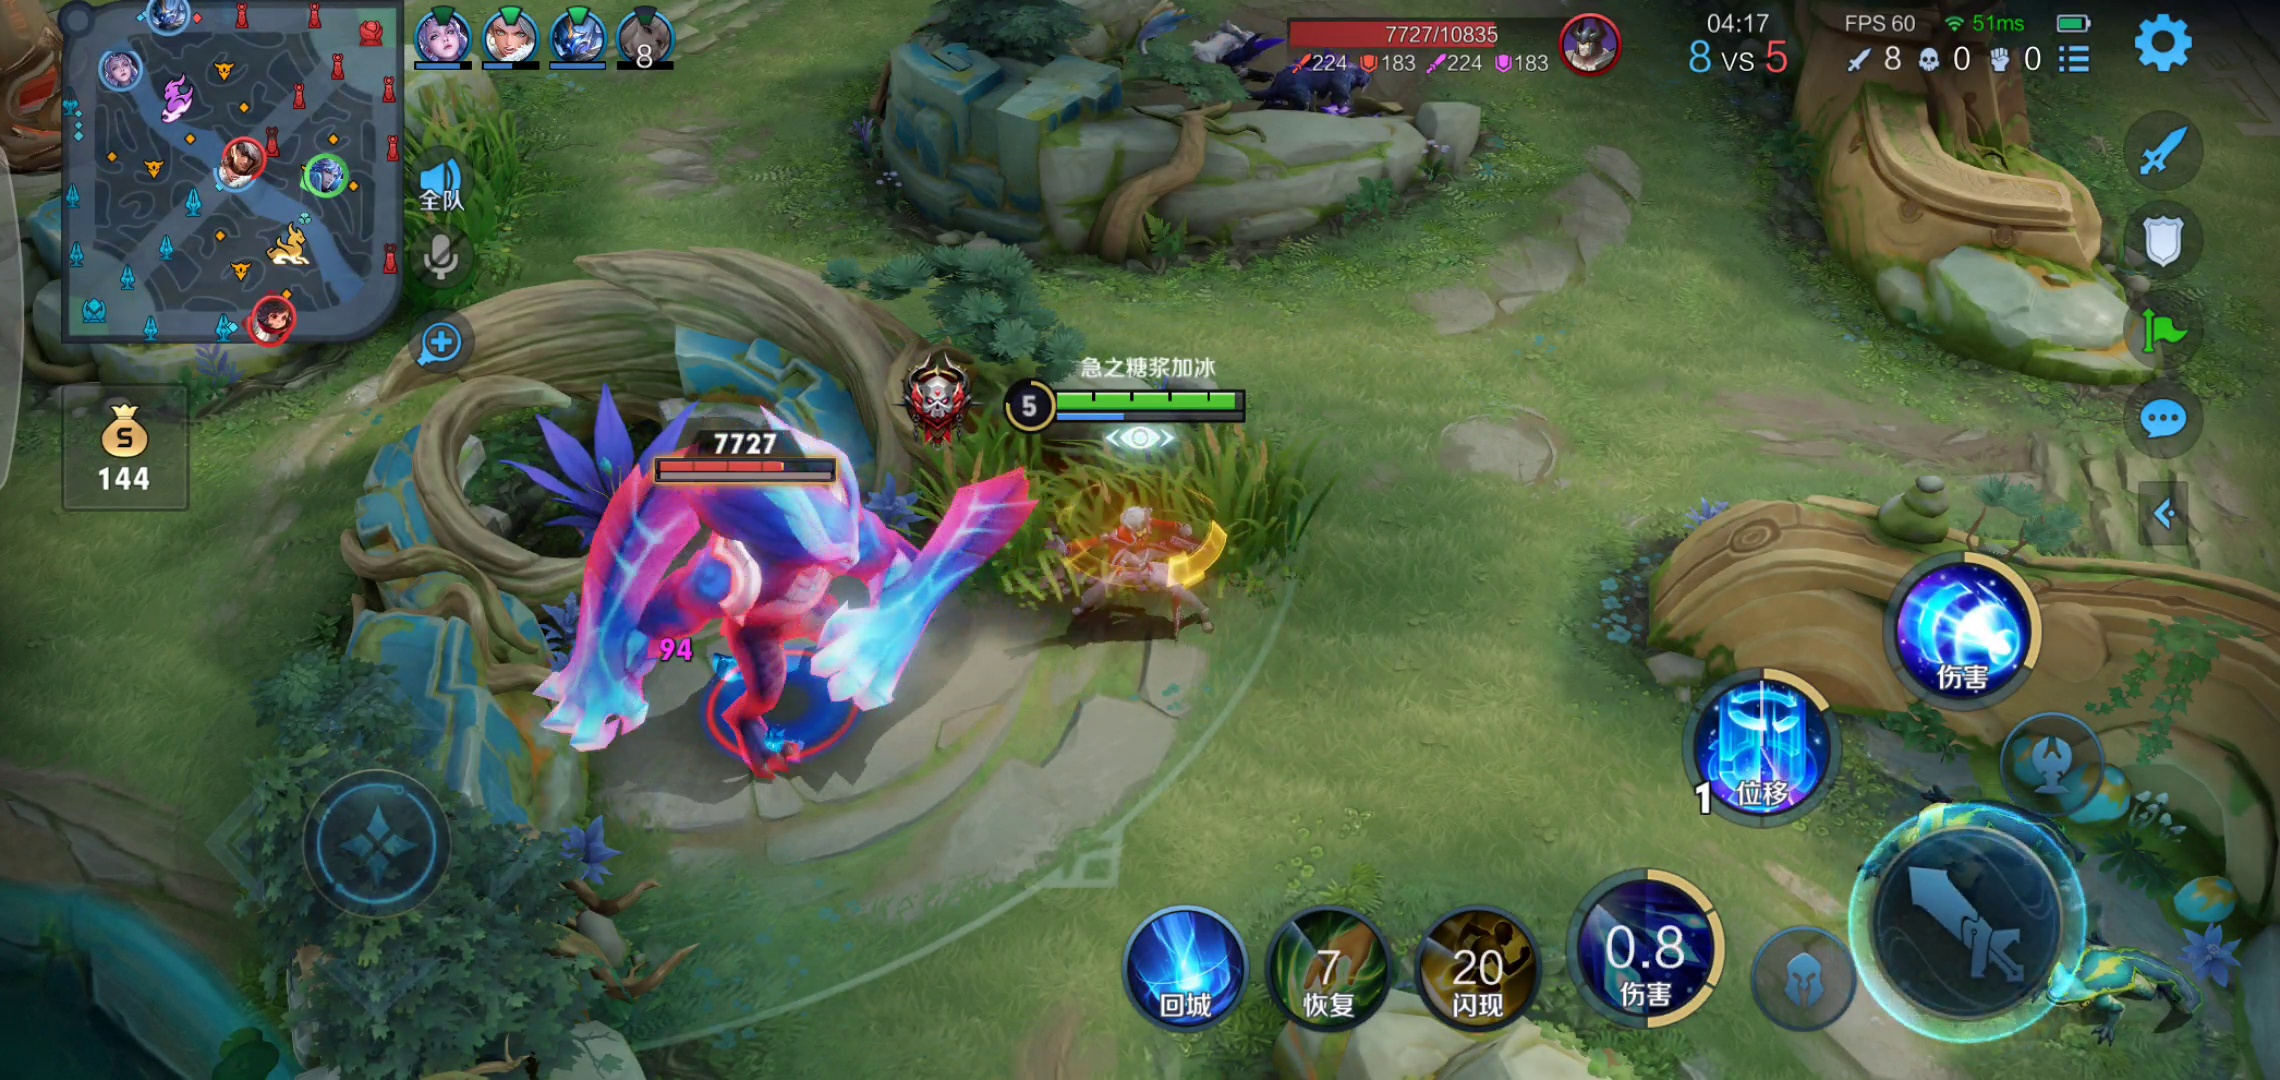buff: (555, 435, 984, 805)
grass: (904, 362, 1330, 645), (407, 106, 518, 307)
hero: (1056, 493, 1235, 634)
wild_monster: (1131, 7, 1403, 148)
